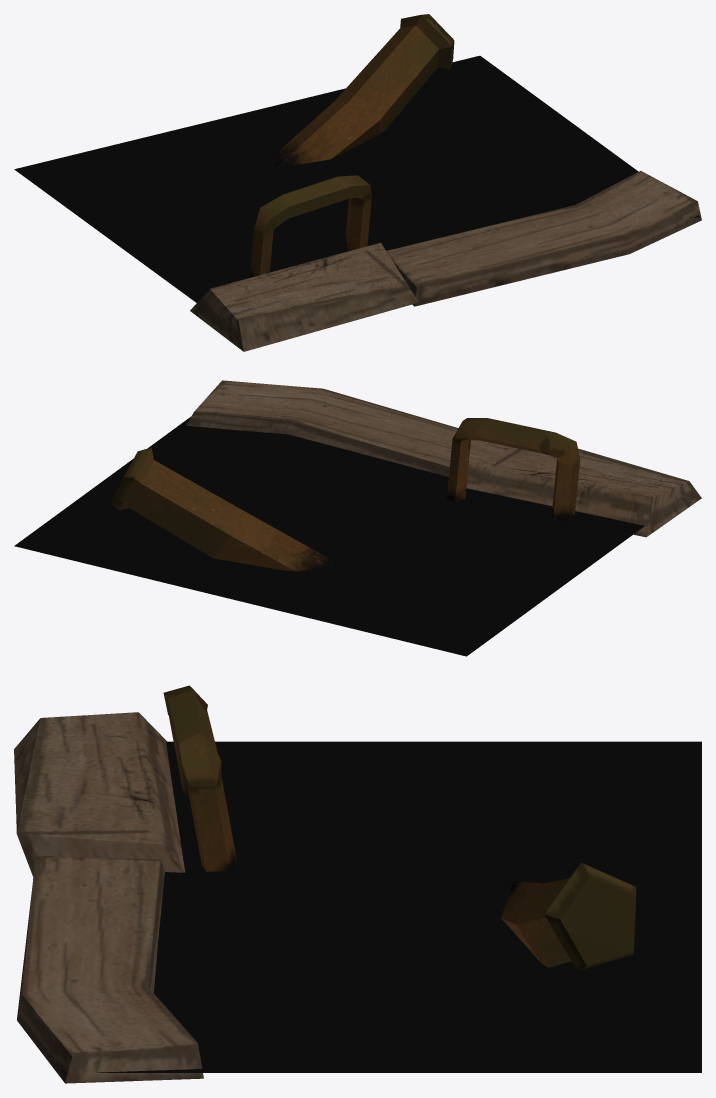
The model's file is pitFall_side02.fbx.
3 views of the same model, one above another, from view 1: azimuth 30°, elevation 25°; view 2: azimuth 150°, elevation 25°; view 3: azimuth 270°, elevation 25° (orthographic). The views are drawn at different scales.
Visible parts, largest first — view 1: pitFall_side02; view 2: pitFall_side02; view 3: pitFall_side02.
Boxes of the visible parts, <box> form: pitFall_side02: <box>14,14,701,351</box>; pitFall_side02: <box>14,380,701,656</box>; pitFall_side02: <box>14,685,701,1083</box>.
Size of the model in its own units: 102 by 30.89 by 87.73.
